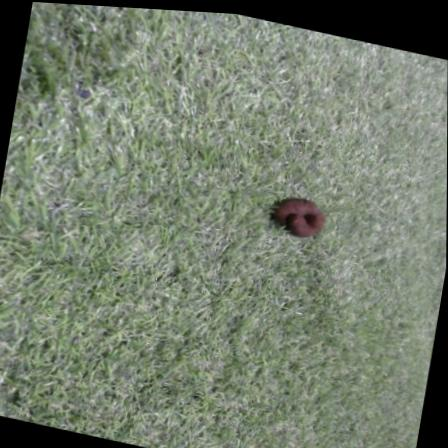dog-poop: (273, 187, 329, 239)
